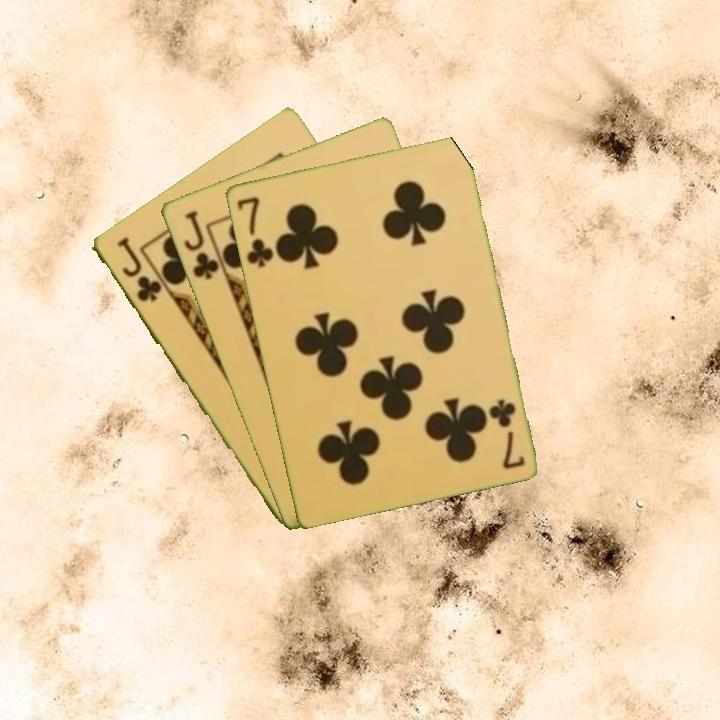7c: (233, 192, 276, 270), (485, 395, 527, 472)
Jc: (113, 233, 164, 305), (179, 206, 222, 283)
